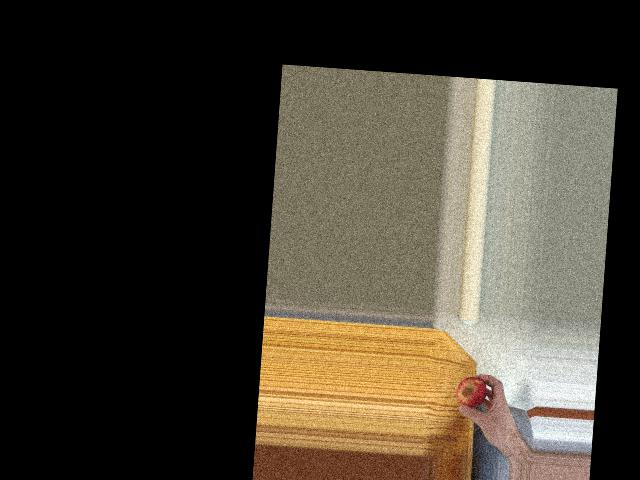apple: (455, 374, 487, 410)
